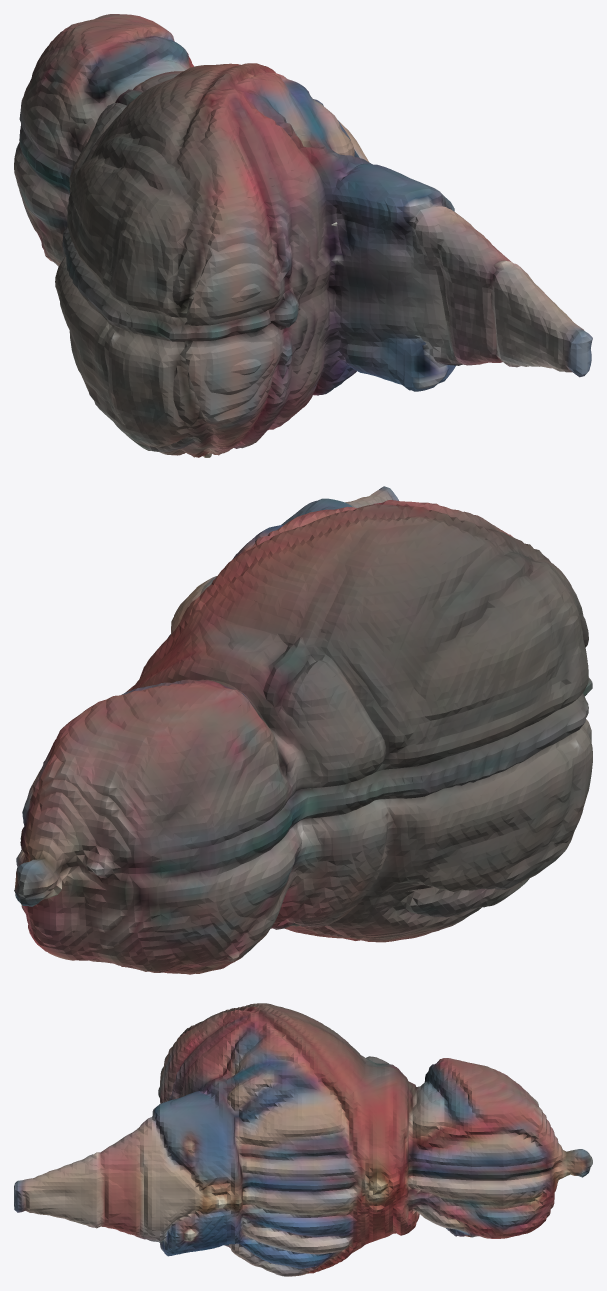
3 views of the same model, one above another, from view 1: azimuth 30°, elevation 25°; view 2: azimuth 150°, elevation 25°; view 3: azimuth 270°, elevation 25° (orthographic). The views are drawn at different scales.
Parts seen in each view (by area): view 1: world; view 2: world; view 3: world.
Part boxes in pixels (left/top/right/bottom): world: left=14, top=14, right=592, bottom=457; world: left=14, top=486, right=592, bottom=974; world: left=14, top=1003, right=592, bottom=1276.
Size of the model in its own units: 0.4547 by 0.4851 by 1.
